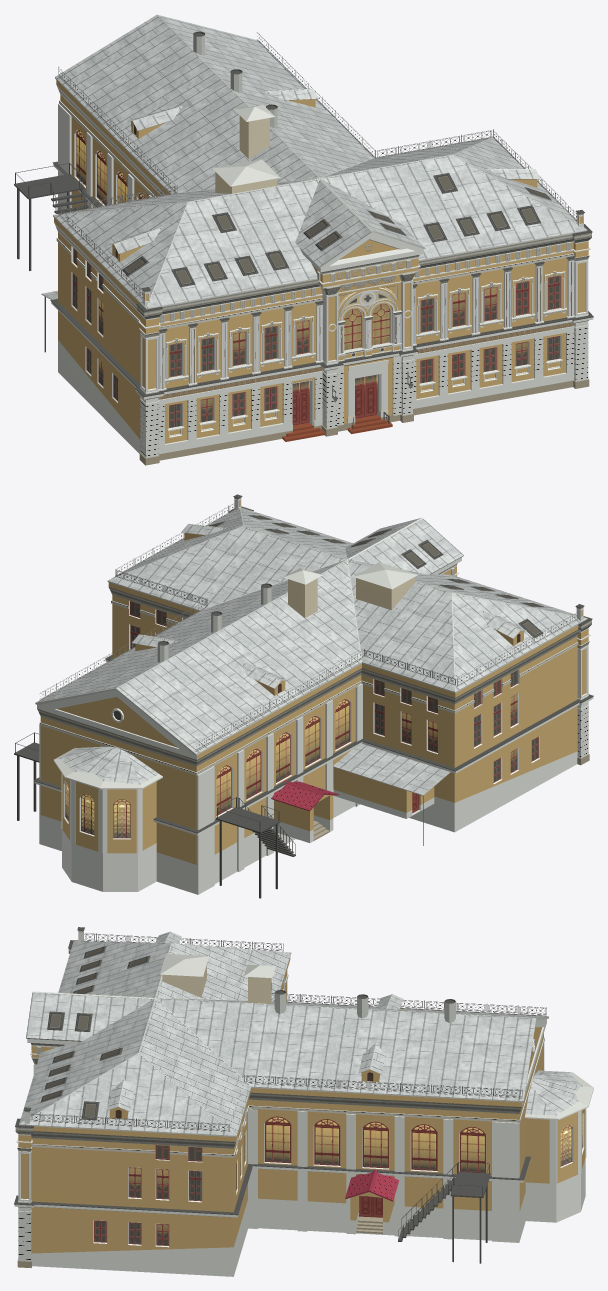
The picture shows the model from 3 angles, top to bottom: view 1: azimuth 30°, elevation 25°; view 2: azimuth 150°, elevation 25°; view 3: azimuth 270°, elevation 25°; orthographic projection. The views are drawn at different scales.
Parts seen in each view (by area): view 1: 01020-50@79190; view 2: 01020-50@79190; view 3: 01020-50@79190.
Part boxes in pixels (x1,y1,x2,y2): 01020-50@79190: [14, 14, 593, 465]; 01020-50@79190: [14, 494, 593, 898]; 01020-50@79190: [14, 927, 593, 1276].
Bounding box in the file's own units: 35.18 × 17.72 × 43.58.
1 material, 1 textured.
